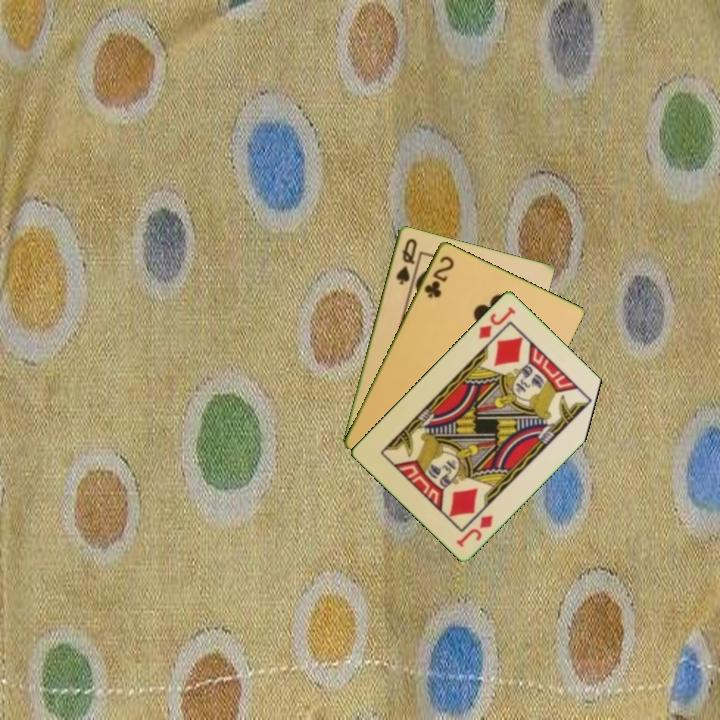2c: (420, 252, 457, 301)
Jd: (474, 302, 518, 342), (453, 511, 496, 550)
Qs: (392, 234, 420, 287)
